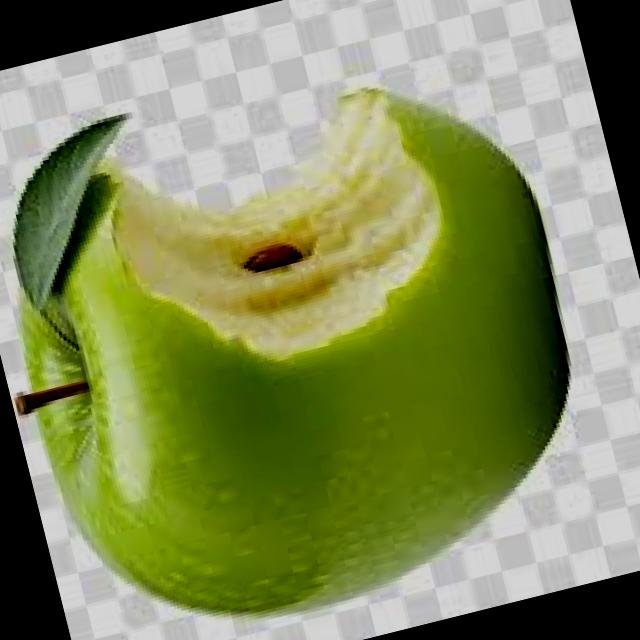Used Apple: (0, 47, 612, 640)
